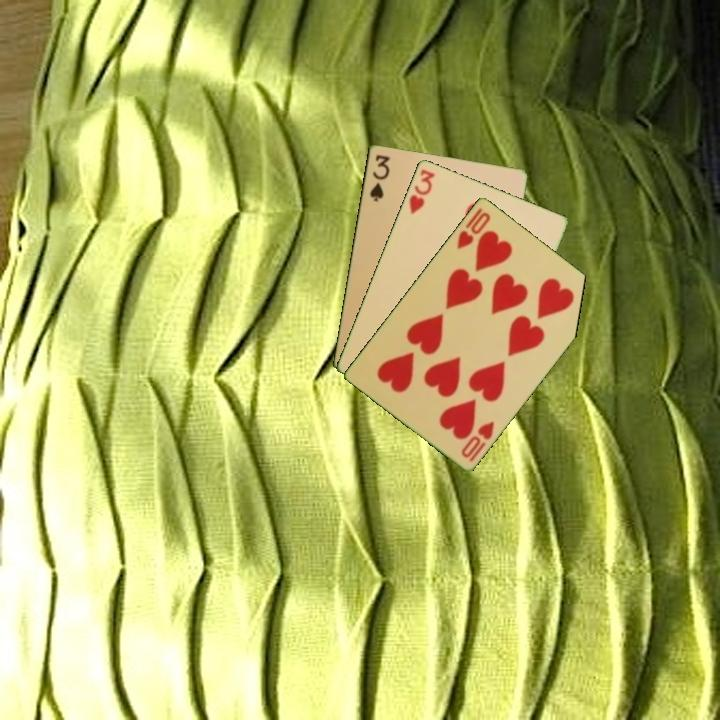10h: (453, 204, 493, 252), (457, 417, 497, 464)
3h: (405, 165, 438, 216)
3s: (366, 151, 392, 204)
